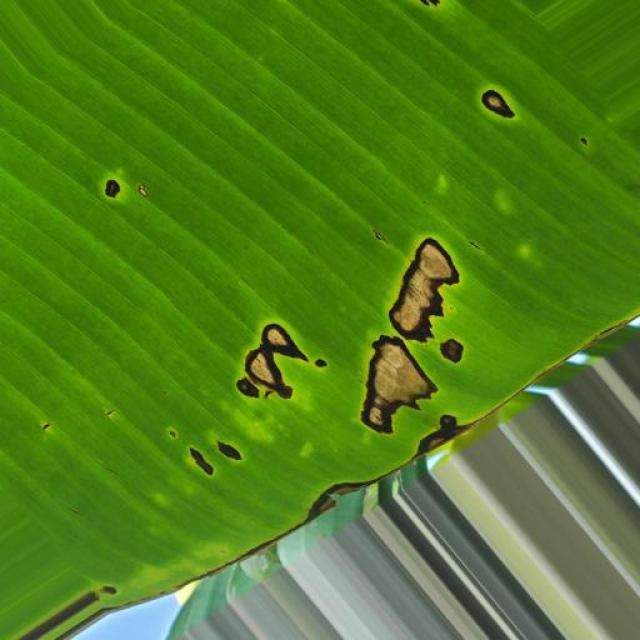Early_rust: (160, 236, 490, 507), (454, 70, 534, 147), (78, 163, 126, 224)
